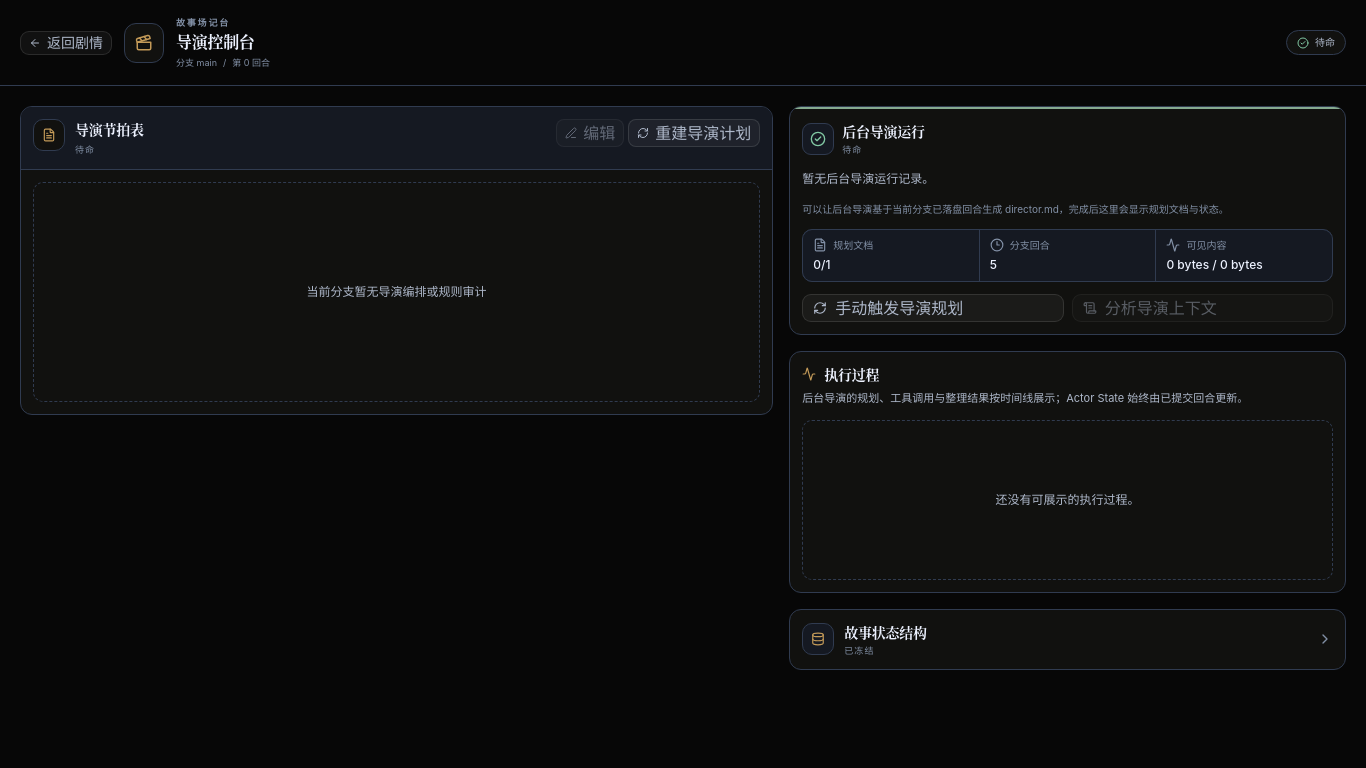
Test: DirectorBackstage › 旧故事的固定状态结构保持只读
The width and height of the screenshot is (1366, 768).
Click the button "故事状态结构 已冻结".
click(818, 639)  # box [790,610,1345,669]
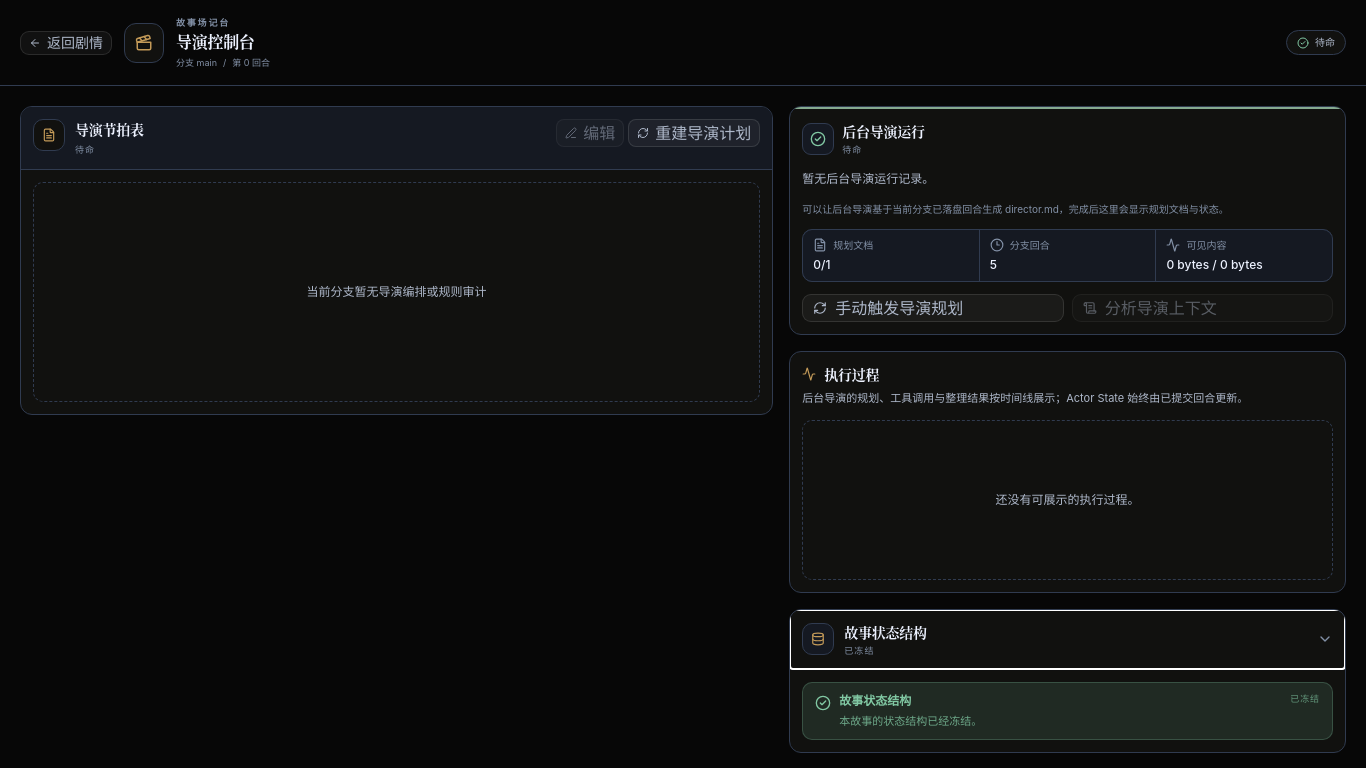
Expected: the text "本故事的状态结构已经冻结。" is shown, [839,714,982,728]
